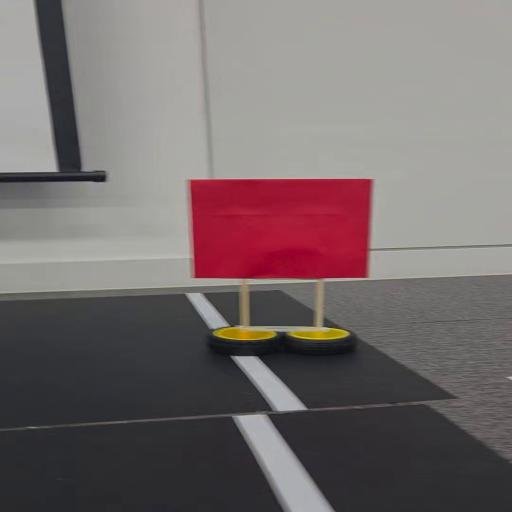Sign_A: (179, 169, 386, 373)
